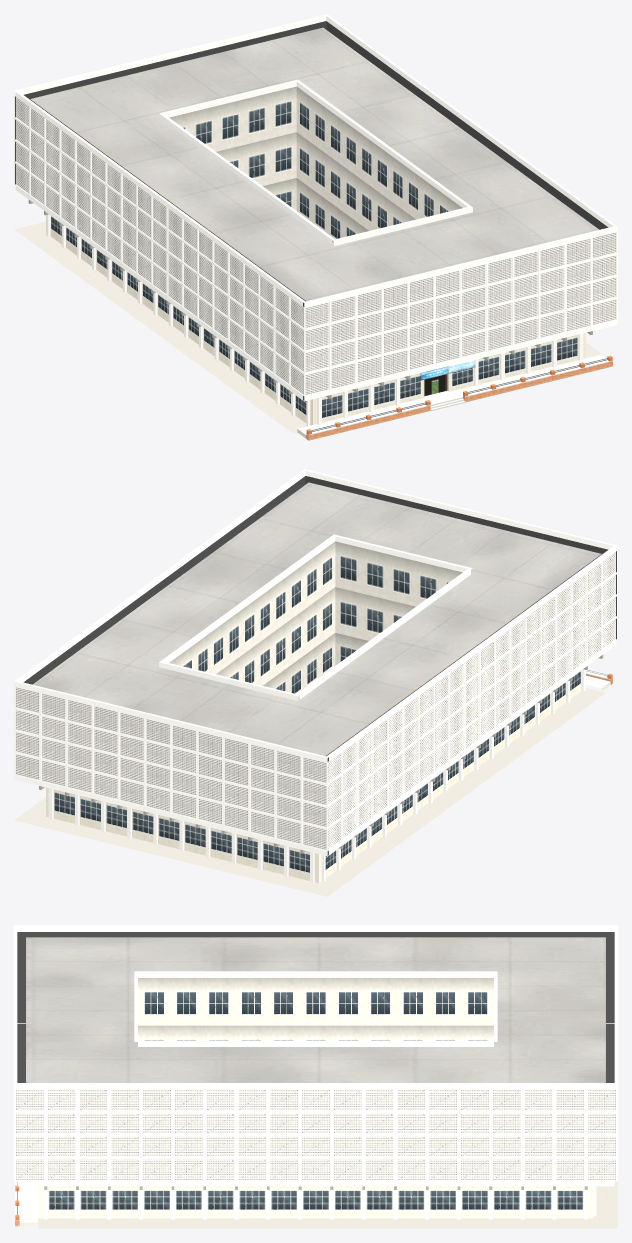
The model's file is igcrt.glb.
The picture shows the model from 3 angles, top to bottom: view 1: azimuth 30°, elevation 25°; view 2: azimuth 150°, elevation 25°; view 3: azimuth 270°, elevation 25°; orthographic projection. The views are drawn at different scales.
Visible parts, largest first — view 1: IGCRT; view 2: IGCRT; view 3: IGCRT.
Boxes of the visible parts, <box> form: IGCRT: <box>14,14,617,440</box>; IGCRT: <box>14,469,617,896</box>; IGCRT: <box>14,925,617,1228</box>.
Size of the model in its own units: 40.17 by 17 by 64.46.
1 material, 1 textured.
